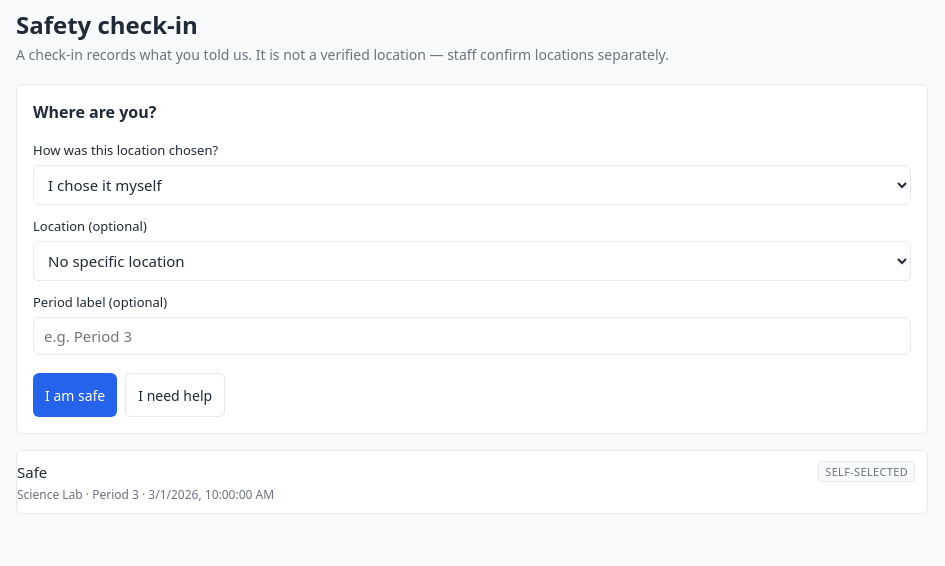
it: CheckIn › surfaces a server rejection of the check-in
Check: the list is shown, box x1=16 y1=450 x2=928 y2=514
Select "Staff confirmed it" in the dropdown labelled "How was this location chosen?" at coordinates (472, 185), box x1=33 y1=165 x2=911 y2=205
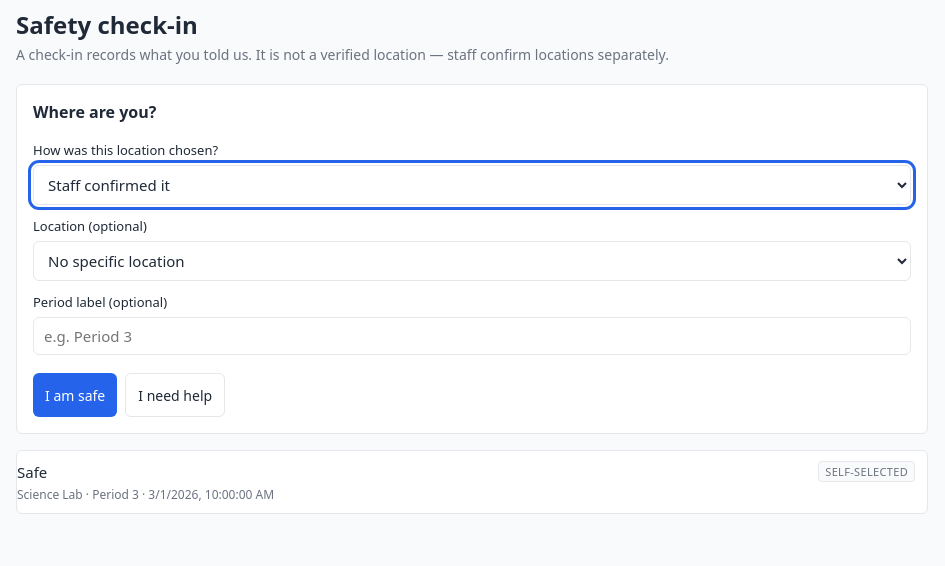
Click the button "I am safe" at coordinates (75, 395), box x1=33 y1=373 x2=117 y2=417
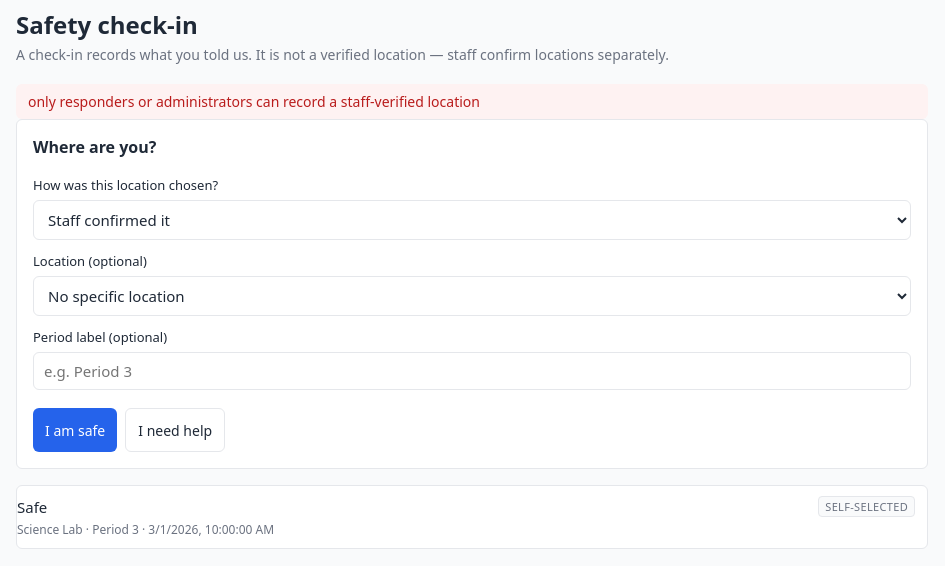
Check: the message shows "staff-verified", box x1=28 y1=92 x2=480 y2=111
